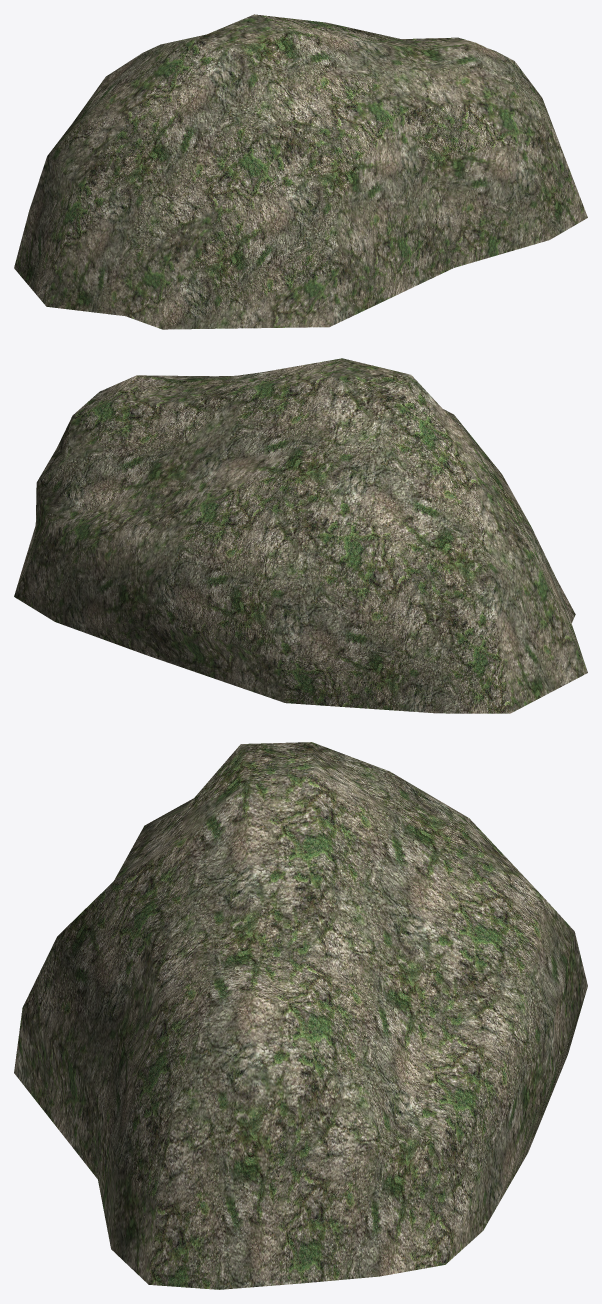
The model's file is Rock 2.fbx.
The picture shows the model from 3 angles, top to bottom: view 1: azimuth 30°, elevation 25°; view 2: azimuth 150°, elevation 25°; view 3: azimuth 270°, elevation 25°; orthographic projection. The views are drawn at different scales.
Visible parts, largest first — view 1: Rock_02_Geo; view 2: Rock_02_Geo; view 3: Rock_02_Geo.
Boxes of the visible parts, box(x1,y1,x2,y2) form: Rock_02_Geo: box(14, 14, 587, 329); Rock_02_Geo: box(14, 358, 587, 713); Rock_02_Geo: box(14, 742, 587, 1289).
Size of the model in its own units: 40.2 by 17.63 by 27.9.
